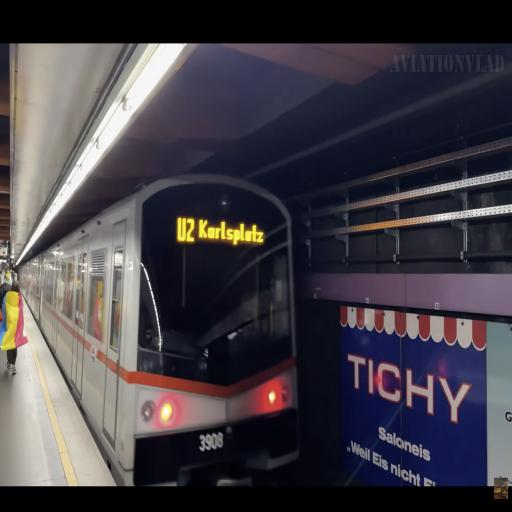V-Wagen: (23, 170, 302, 486)
